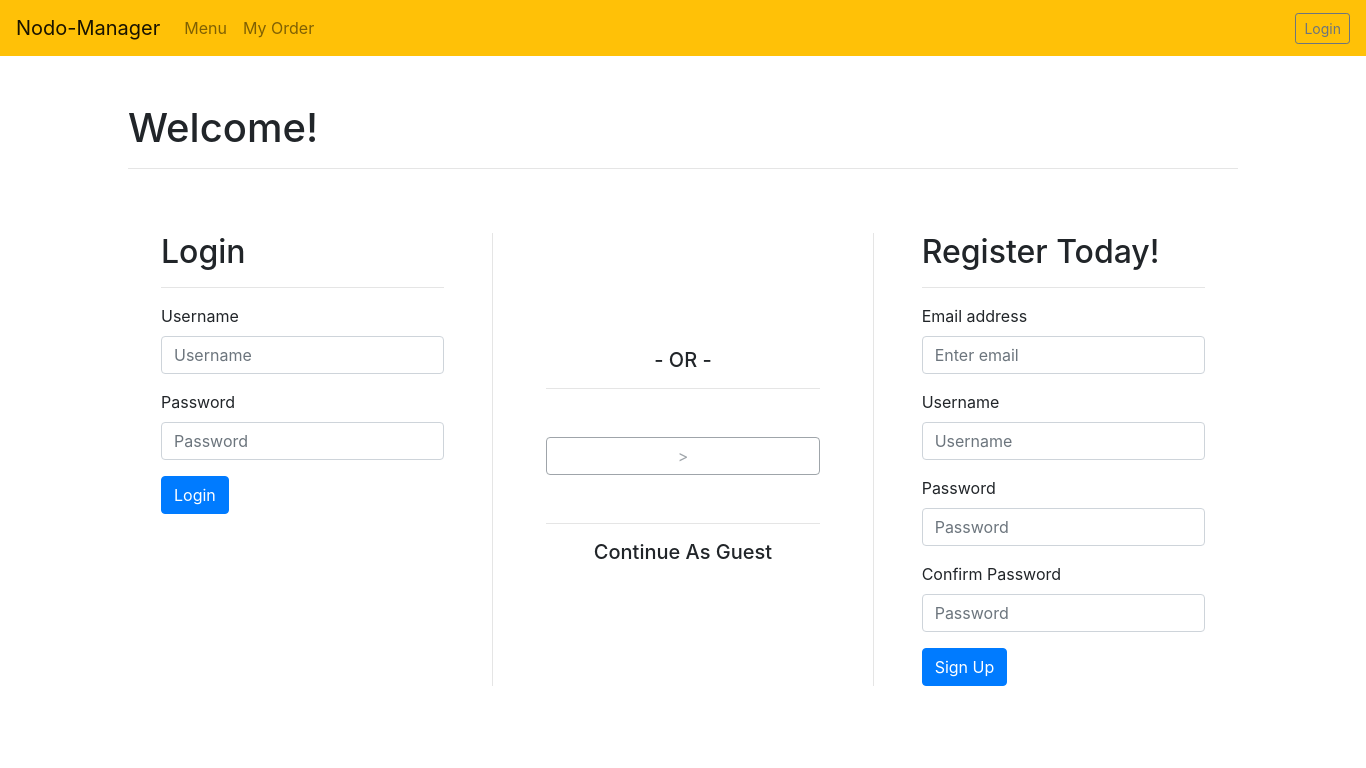
Test: Register Form Actions › Username Input › has a maximum input of 30 characters
In the field with id "register-username": {"x": 1064, "y": 441} [922,422,1205,460], type "12345678901234567890123456789012345"
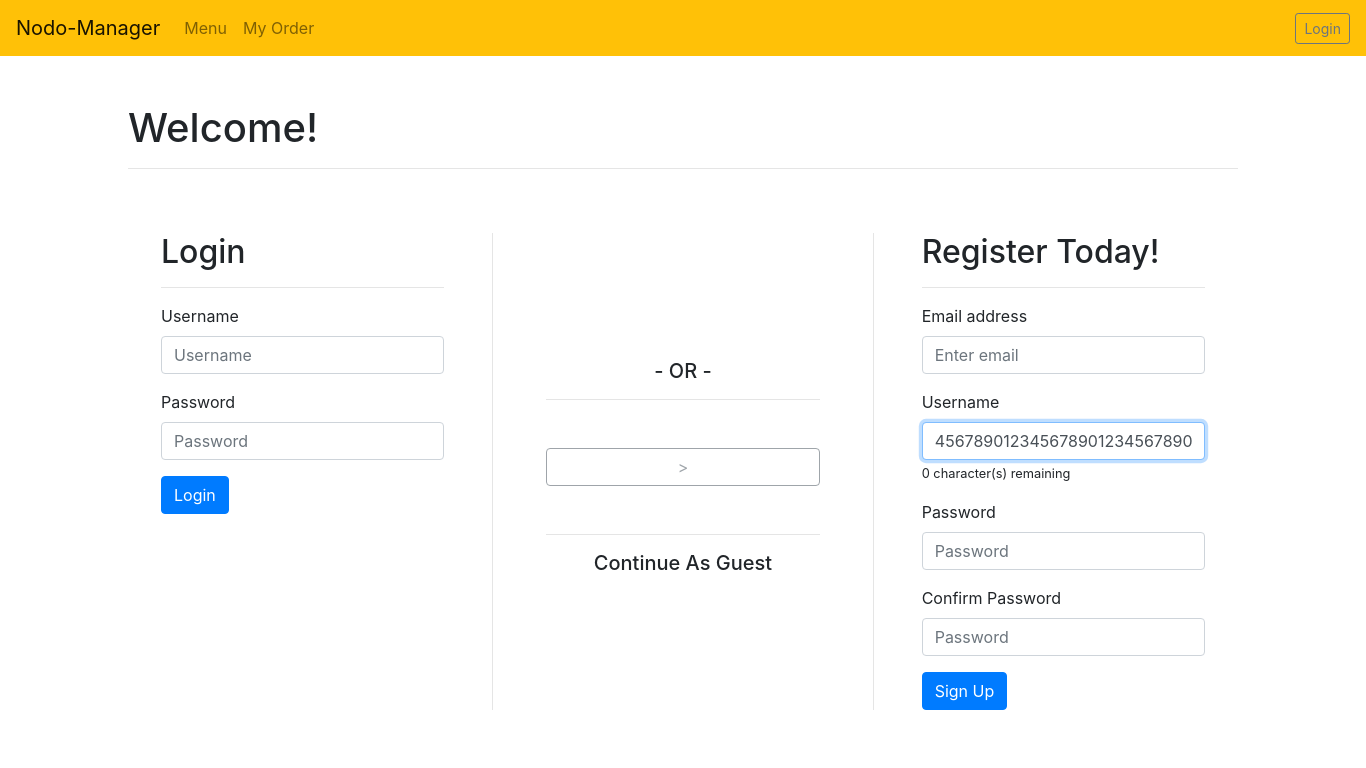
Result: the field with id "register-username" holds "123456789012345678901234567890" at [922,422,1205,460]
